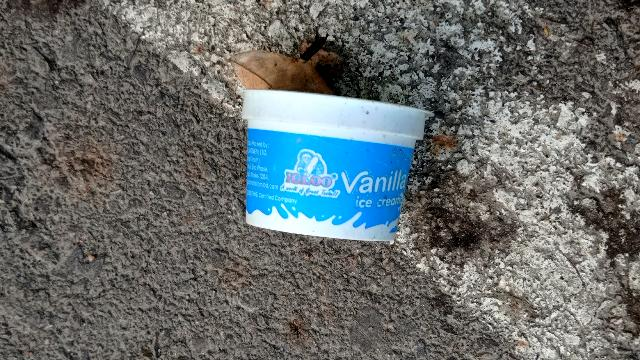bottle: (230, 87, 433, 252)
